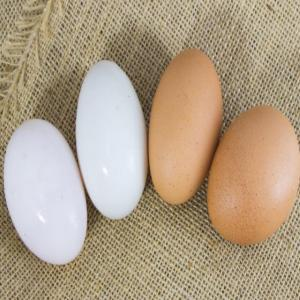Egg: (60, 36, 152, 246), (202, 78, 300, 265), (141, 38, 234, 219), (0, 103, 94, 272)
